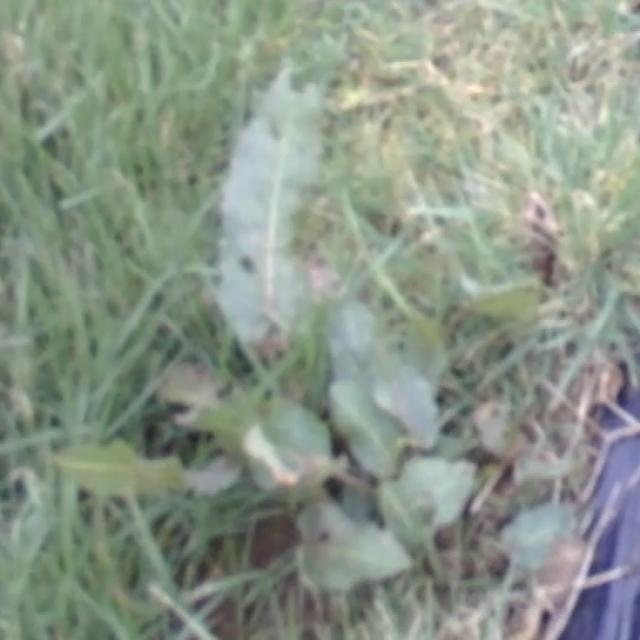organic waste: (81, 55, 538, 600), (229, 308, 525, 608)
